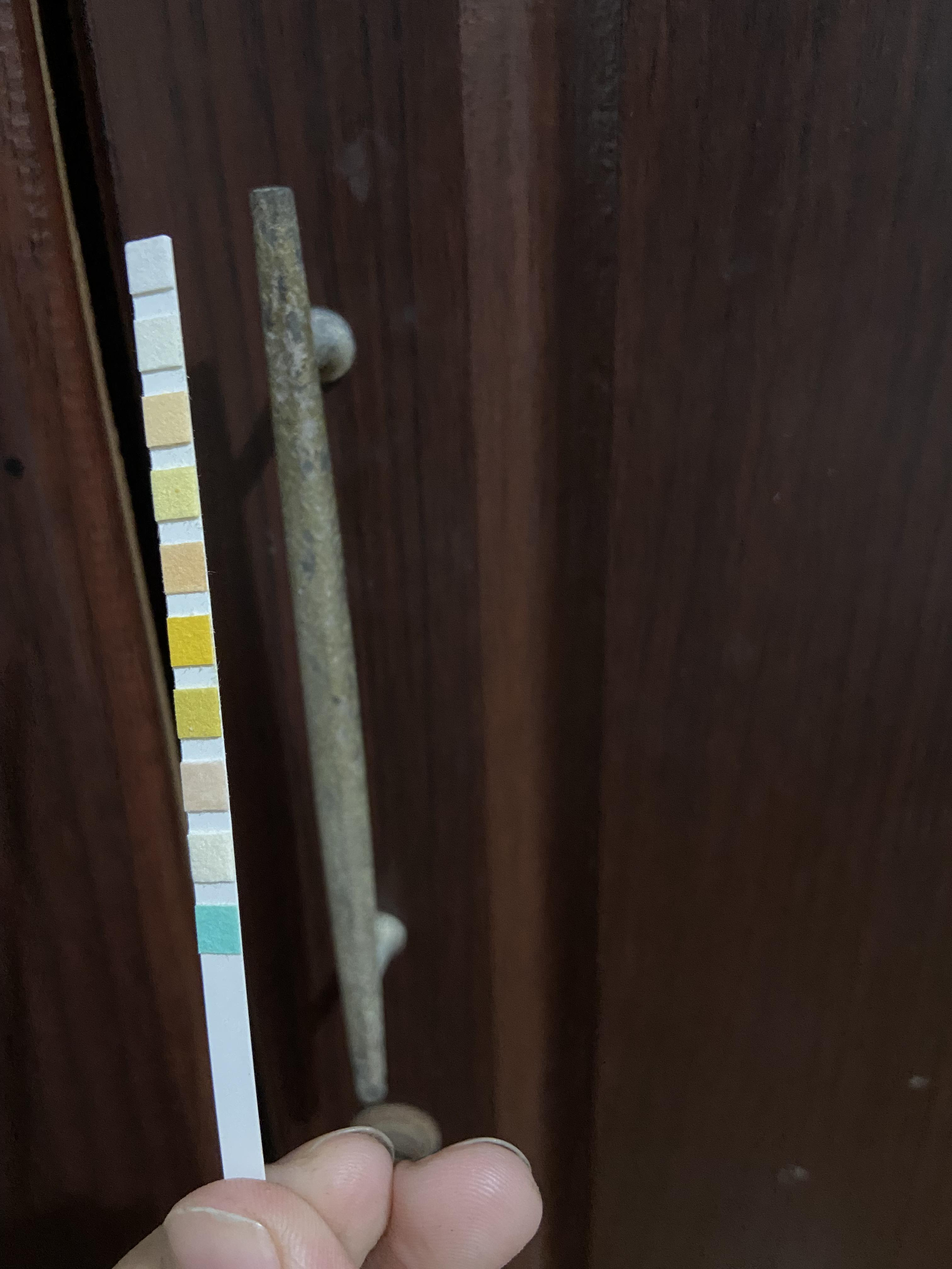Bilirubin: (193, 835, 232, 881)
Blood: (174, 619, 210, 664)
Glucose: (200, 906, 238, 954)
Ketone: (185, 764, 225, 809)
Leukocytes: (131, 244, 169, 288)
Nitrite: (140, 321, 178, 366)
Protein: (157, 471, 196, 515)
SpGravity: (179, 690, 219, 736)
Urobilinogen: (148, 397, 188, 440)
pH: (166, 545, 203, 591)
strip: (127, 238, 264, 1172)
